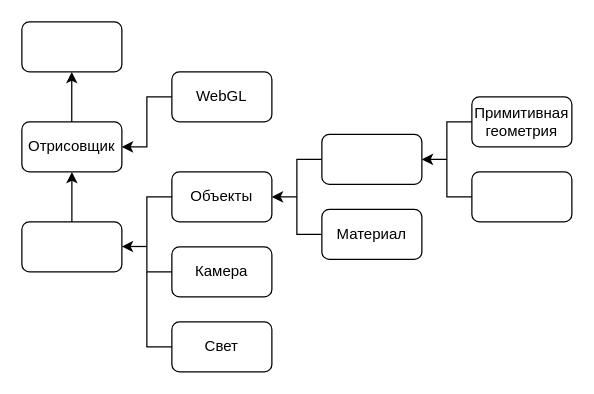
The diagram is 594 pixels wide and 394 high, and some of its shapes have lost their labels. Here are the shapes that lost their labels. From the top down, the centre of each, then its label:
the point at 71,46: Изображение
the point at 371,158: Геометрия
the point at 521,196: 3D модель
the point at 71,246: Сцена
